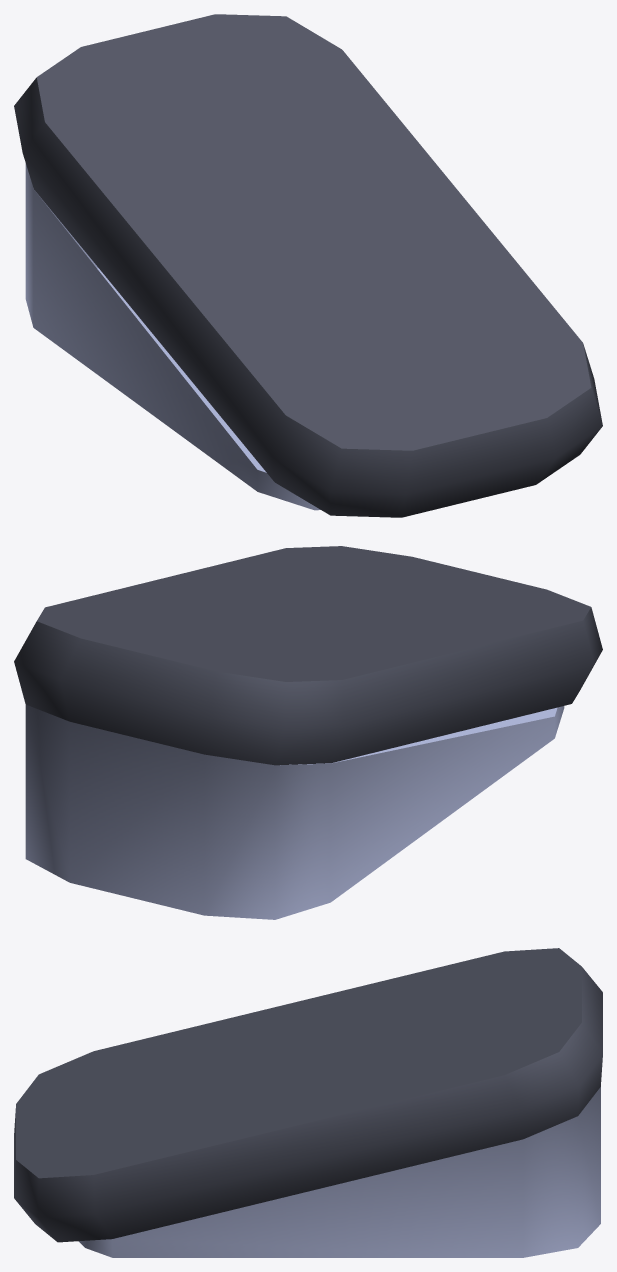
File: block-snow-large-slope-narrow.glb
3 views of the same model, one above another, from view 1: azimuth 30°, elevation 25°; view 2: azimuth 150°, elevation 25°; view 3: azimuth 270°, elevation 25° (orthographic). The views are drawn at different scales.
Parts seen in each view (by area): view 1: block-snow-large-slope-narrow; view 2: block-snow-large-slope-narrow; view 3: block-snow-large-slope-narrow.
Boxes of the visible parts, <box> form: block-snow-large-slope-narrow: <box>14,14,602,517</box>; block-snow-large-slope-narrow: <box>14,546,602,919</box>; block-snow-large-slope-narrow: <box>14,948,602,1257</box>.
Size of the model in its own units: 1.08 by 0.7591 by 2.01.
